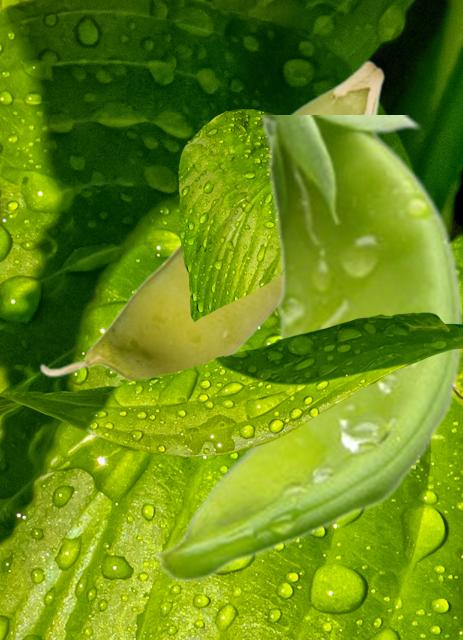pea: (152, 115, 460, 580), (39, 60, 384, 381)
